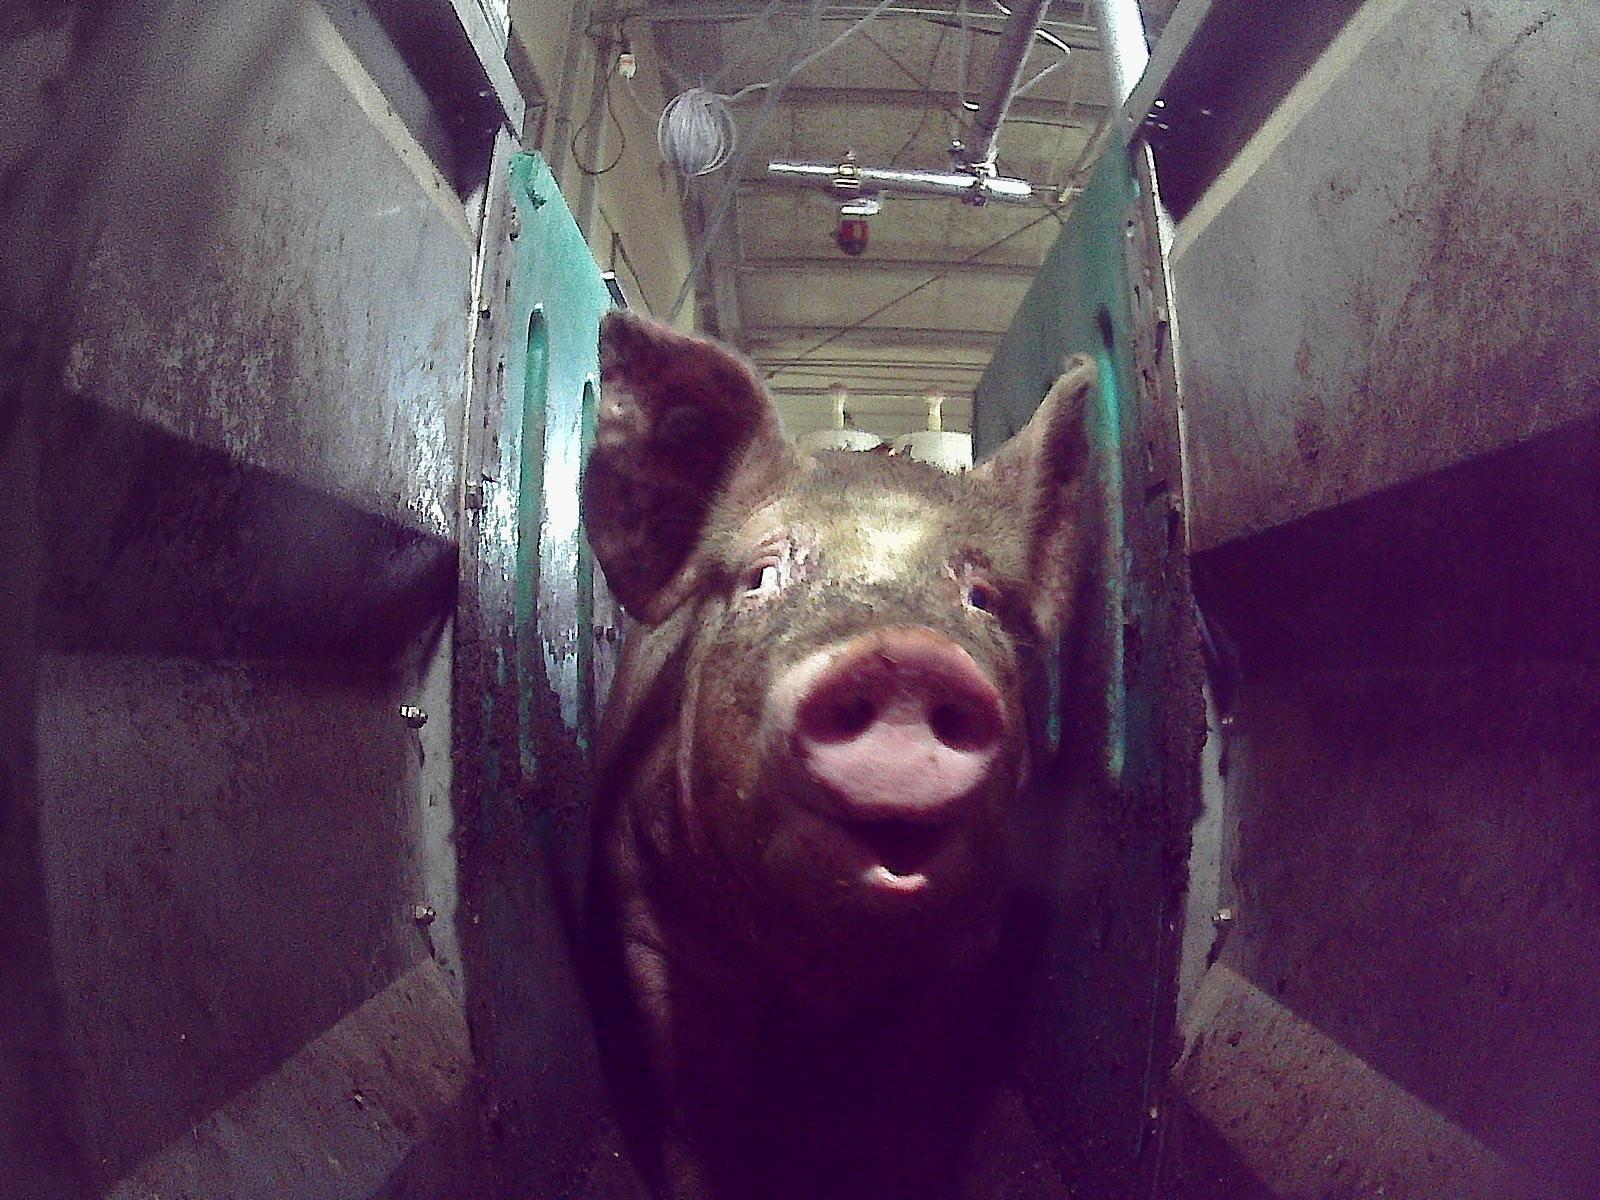Face: (674, 451, 1042, 970)
